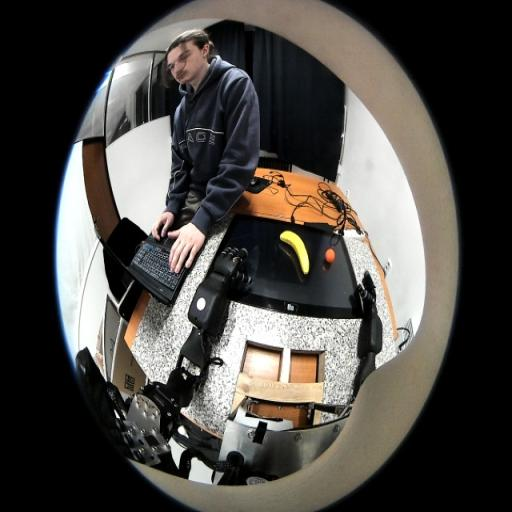Banana: (280, 230, 310, 275)
LeftHand: (215, 255, 235, 271)
Orange: (325, 248, 336, 263)
RightHand: (363, 292, 376, 307)
